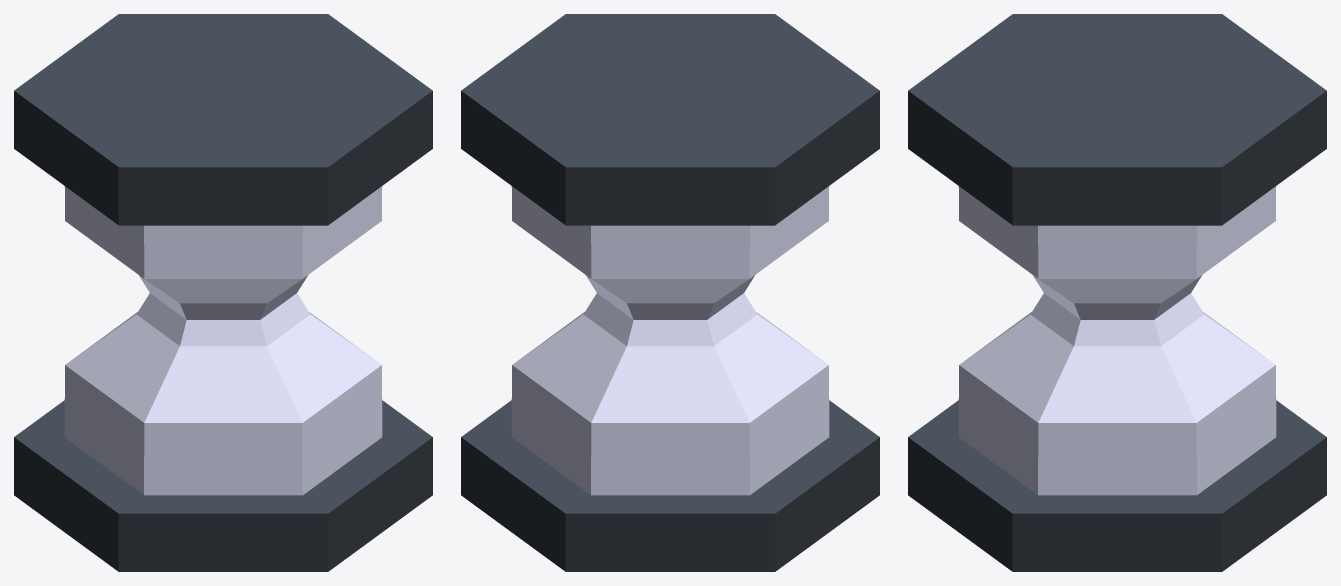
The model's file is time_item.glb.
The picture shows the model from 3 angles, left to right: view 1: azimuth 30°, elevation 25°; view 2: azimuth 150°, elevation 25°; view 3: azimuth 270°, elevation 25°; orthographic projection.
Visible parts, largest first — view 1: Cylinder.001; view 2: Cylinder.001; view 3: Cylinder.001.
Boxes of the visible parts, x1,y1,x2,y2 form: Cylinder.001: (14, 14, 432, 571); Cylinder.001: (461, 14, 879, 571); Cylinder.001: (908, 14, 1326, 571).
Size of the model in its own units: 1.36 by 1.67 by 1.57.
Materials: 2 (1 with a texture image).
